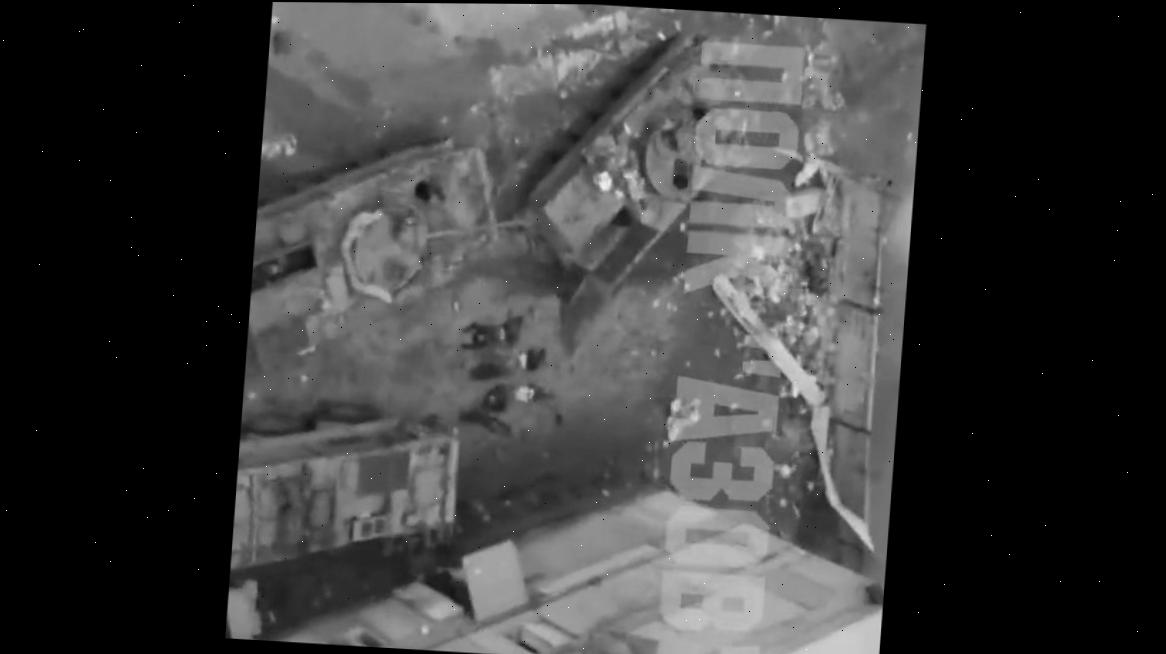person: (461, 306, 535, 356), (474, 342, 553, 386), (479, 378, 548, 416), (446, 412, 524, 442)
tank: (245, 110, 513, 386), (525, 4, 767, 297)
truck: (228, 394, 464, 610)
